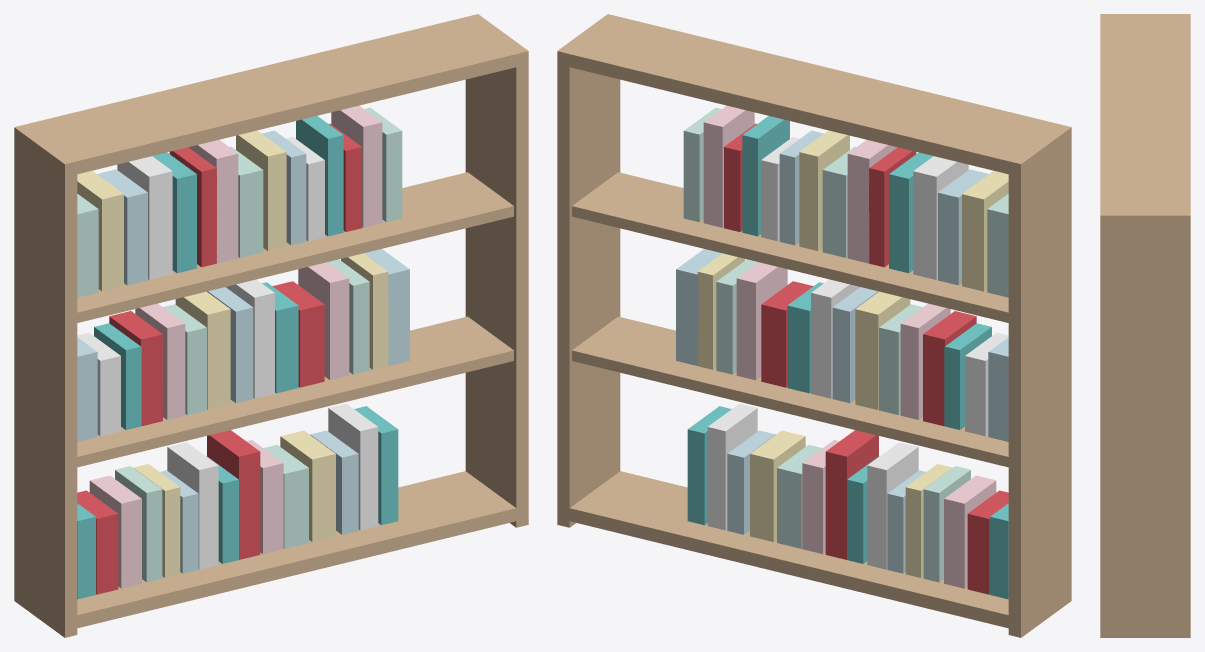
Rendered from Wall_Shelf.glb.
3 views of the same model, side by side, from view 1: azimuth 30°, elevation 25°; view 2: azimuth 150°, elevation 25°; view 3: azimuth 270°, elevation 25° (orthographic). The views are drawn at different scales.
Visible parts, largest first — view 1: Shelf_Top, Shelf_Left, Shelf_Right, Shelf_Bottom, Shelf_Mid2, Shelf_Mid1, ShelfBook_S1_9, ShelfBook_S2_12, ShelfBook_S3_4, ShelfBook_S1_7, ShelfBook_S1_14, ShelfBook_S3_2 (+39 smaller); view 2: Shelf_Top, Shelf_Left, Shelf_Right, Shelf_Bottom, Shelf_Mid2, Shelf_Mid1, ShelfBook_S1_9, ShelfBook_S2_12, ShelfBook_S3_4, ShelfBook_S1_7, ShelfBook_S1_14, ShelfBook_S3_2 (+39 smaller); view 3: Shelf_Right, Shelf_Top.
Part boxes in pixels (x1=…): Shelf_Top: x1=14, y1=14, x2=528, y2=176; Shelf_Left: x1=14, y1=140, x2=77, y2=637; Shelf_Right: x1=465, y1=64, x2=528, y2=527; Shelf_Bottom: x1=14, y1=471, x2=528, y2=631; Shelf_Mid2: x1=77, y1=172, x2=513, y2=322; Shelf_Mid1: x1=77, y1=316, x2=513, y2=467; ShelfBook_S1_9: x1=207, y1=430, x2=260, y2=559; ShelfBook_S2_12: x1=298, y1=262, x2=349, y2=380; ShelfBook_S3_4: x1=117, y1=156, x2=172, y2=279; ShelfBook_S1_7: x1=167, y1=442, x2=218, y2=569; ShelfBook_S1_14: x1=328, y1=403, x2=378, y2=530; ShelfBook_S3_2: x1=77, y1=171, x2=123, y2=291; Shelf_Top: x1=557, y1=14, x2=1071, y2=177; Shelf_Left: x1=1008, y1=140, x2=1071, y2=637; Shelf_Right: x1=557, y1=52, x2=620, y2=527; Shelf_Bottom: x1=557, y1=471, x2=1071, y2=631; Shelf_Mid2: x1=572, y1=172, x2=1008, y2=322; Shelf_Mid1: x1=572, y1=316, x2=1008, y2=467; ShelfBook_S1_9: x1=825, y1=430, x2=878, y2=559; ShelfBook_S2_12: x1=736, y1=262, x2=787, y2=380; ShelfBook_S3_4: x1=913, y1=156, x2=968, y2=279; ShelfBook_S1_7: x1=867, y1=442, x2=918, y2=569; ShelfBook_S1_14: x1=707, y1=403, x2=757, y2=530; ShelfBook_S3_2: x1=962, y1=171, x2=1008, y2=291; Shelf_Right: x1=1100, y1=217, x2=1190, y2=637; Shelf_Top: x1=1100, y1=14, x2=1190, y2=227.
Size of the model in its own units: 1.85 by 1.8 by 0.35.
